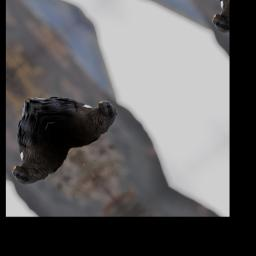Crow: (25, 60, 127, 157)
